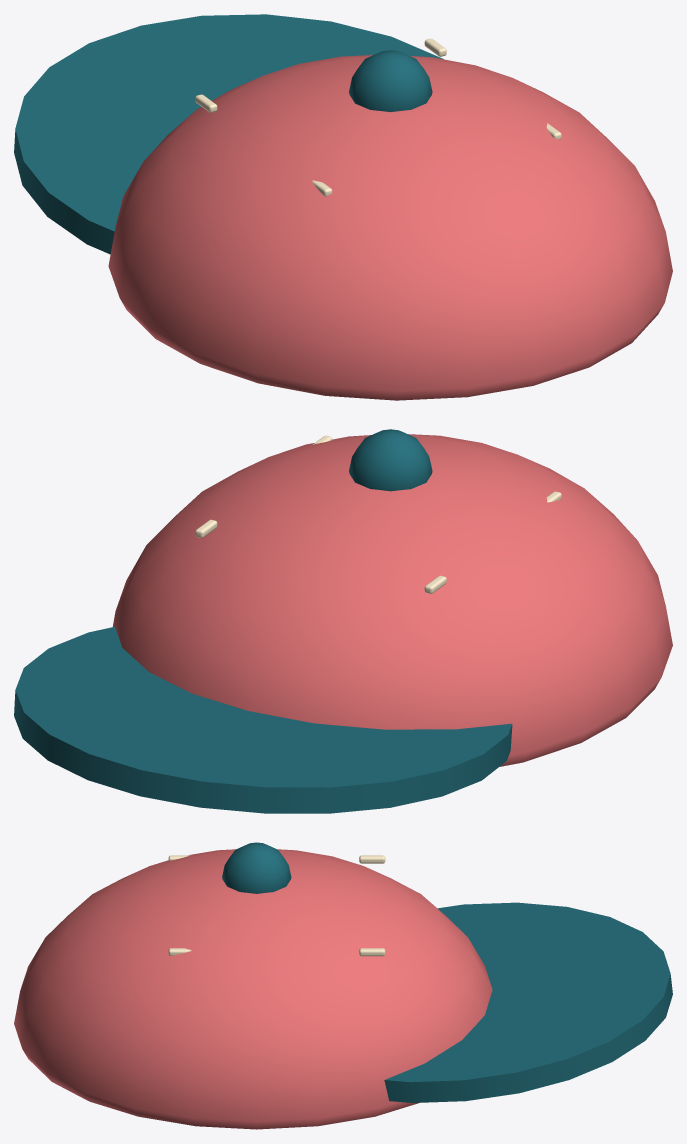
File: acc_cap.glb
The picture shows the model from 3 angles, top to bottom: view 1: azimuth 30°, elevation 25°; view 2: azimuth 150°, elevation 25°; view 3: azimuth 270°, elevation 25°; orthographic projection. The views are drawn at different scales.
Parts seen in each view (by area): view 1: AccCap, CraftDetails; view 2: AccCap, CraftDetails; view 3: AccCap, CraftDetails.
Part boxes in pixels (x1,y1,x2,y2): AccCap: (14, 14, 672, 400); CraftDetails: (195, 38, 561, 196); AccCap: (14, 429, 672, 813); CraftDetails: (195, 435, 561, 593); AccCap: (14, 842, 672, 1129); CraftDetails: (168, 855, 385, 956).
Bounding box in the file's own units: 0.8 × 0.36 × 1.14.
